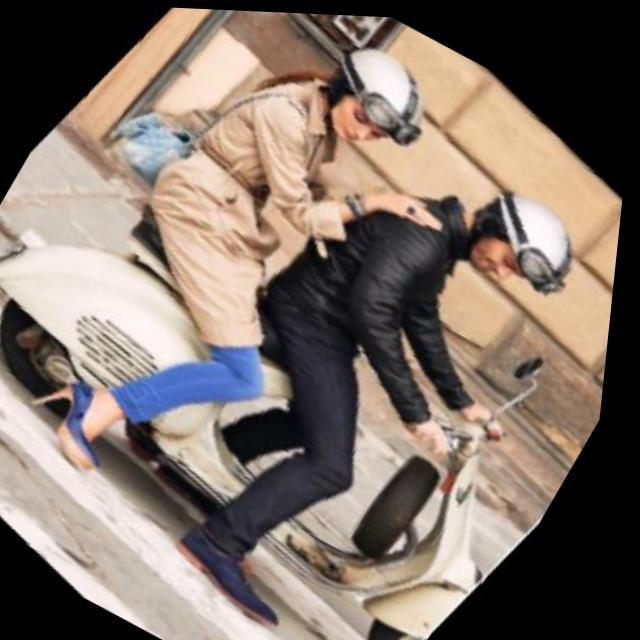Helmet: (460, 175, 574, 299), (313, 36, 426, 156)
